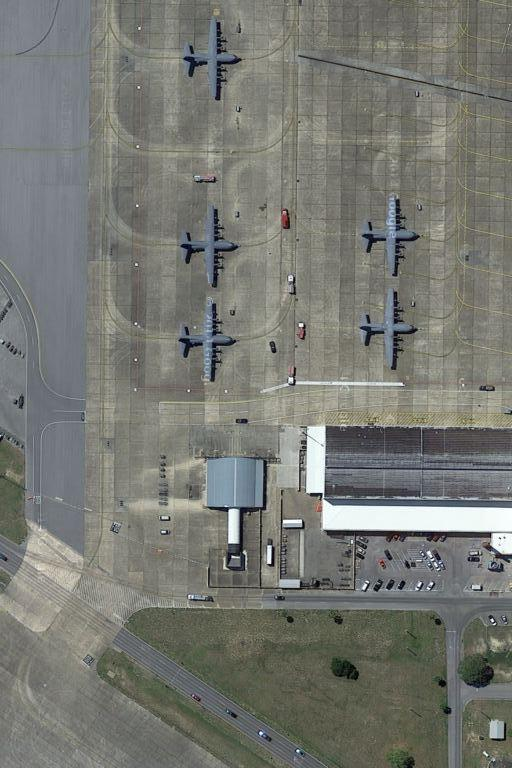C-130: (171, 293, 239, 386), (177, 201, 243, 294), (357, 281, 419, 377), (180, 13, 242, 106), (359, 193, 422, 278)
